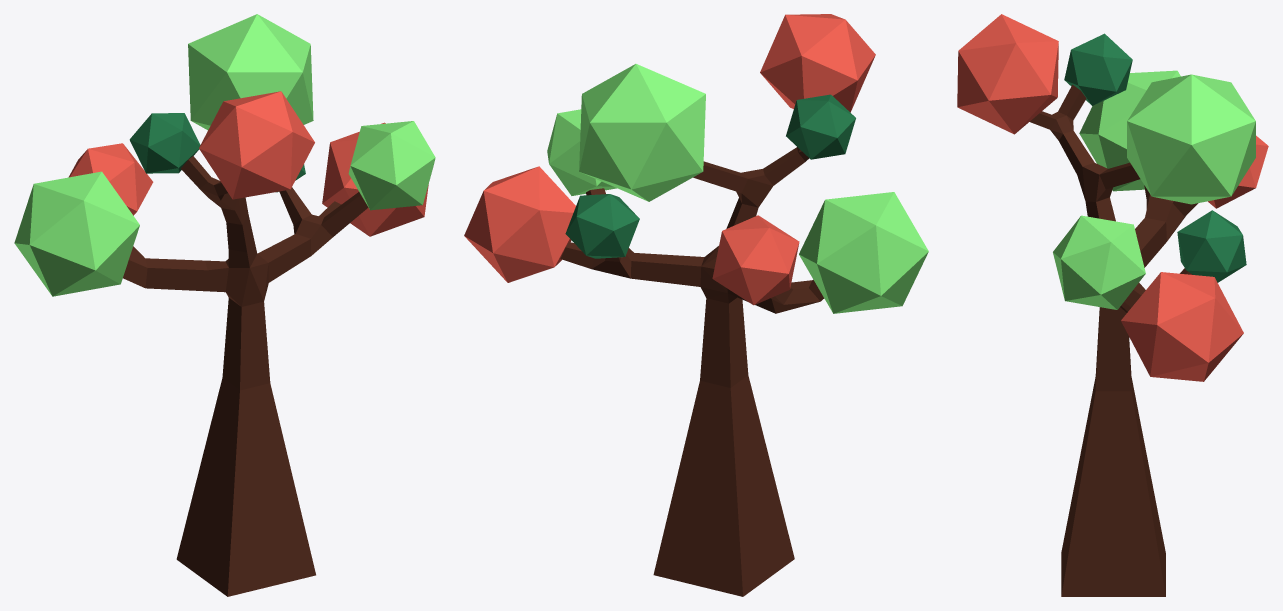
The model's file is tree02.fbx.
The picture shows the model from 3 angles, left to right: view 1: azimuth 30°, elevation 25°; view 2: azimuth 150°, elevation 25°; view 3: azimuth 270°, elevation 25°; orthographic projection. The views are drawn at different scales.
Visible parts, largest first — view 1: Cube.002, Icosphere.004, Icosphere.001, Icosphere.002, Icosphere, Icosphere.007, Icosphere.003, Icosphere.005; view 2: Cube.002, Icosphere.001, Icosphere.004, Icosphere.007, Icosphere.002, Icosphere.005, Icosphere.006, Icosphere.003, Icosphere; view 3: Cube.002, Icosphere.001, Icosphere.007, Icosphere.002, Icosphere, Icosphere.004, Icosphere.006, Icosphere.003, Icosphere.005.
Boxes of the visible parts, bbox=[...] form: Cube.002: bbox=[123, 156, 368, 596]; Icosphere.004: bbox=[14, 171, 139, 296]; Icosphere.001: bbox=[188, 14, 313, 130]; Icosphere.002: bbox=[199, 91, 314, 199]; Icosphere: bbox=[348, 121, 435, 210]; Icosphere.007: bbox=[322, 122, 428, 236]; Icosphere.003: bbox=[129, 113, 200, 173]; Icosphere.005: bbox=[68, 143, 153, 215]; Cube.002: bbox=[560, 147, 824, 596]; Icosphere.001: bbox=[579, 64, 705, 201]; Icosphere.004: bbox=[799, 192, 928, 313]; Icosphere.007: bbox=[464, 166, 575, 282]; Icosphere.002: bbox=[760, 14, 875, 112]; Icosphere.005: bbox=[712, 215, 799, 305]; Icosphere.006: bbox=[565, 194, 639, 258]; Icosphere.003: bbox=[786, 94, 855, 159]; Icosphere: bbox=[547, 109, 616, 195]; Cube.002: bbox=[1030, 84, 1198, 596]; Icosphere.001: bbox=[1127, 74, 1255, 204]; Icosphere.007: bbox=[1121, 272, 1243, 381]; Icosphere.002: bbox=[957, 14, 1058, 134]; Icosphere: bbox=[1053, 215, 1145, 309]; Icosphere.004: bbox=[1079, 70, 1180, 191]; Icosphere.006: bbox=[1177, 210, 1246, 282]; Icosphere.003: bbox=[1064, 33, 1132, 105]; Icosphere.005: bbox=[1208, 135, 1268, 208].
Bounding box in the file's own units: 1003 × 1180 × 630.
